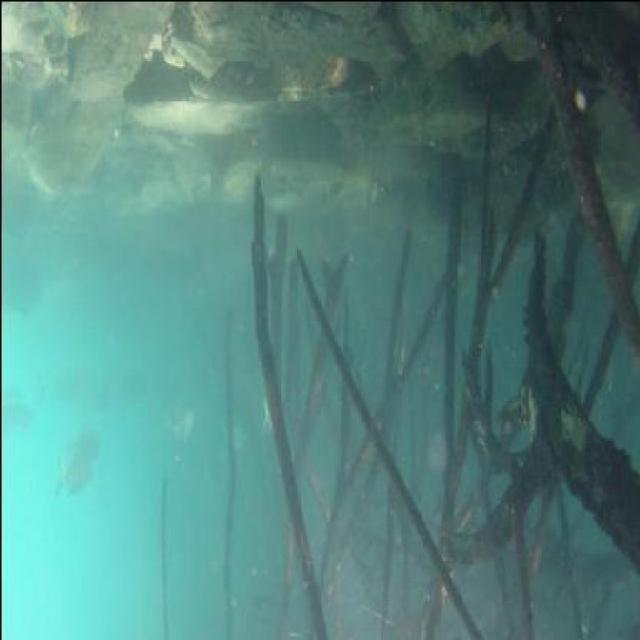Caranx_sexfasciatus_juvenile: (57, 415, 98, 471), (156, 397, 195, 454), (34, 451, 84, 495)
